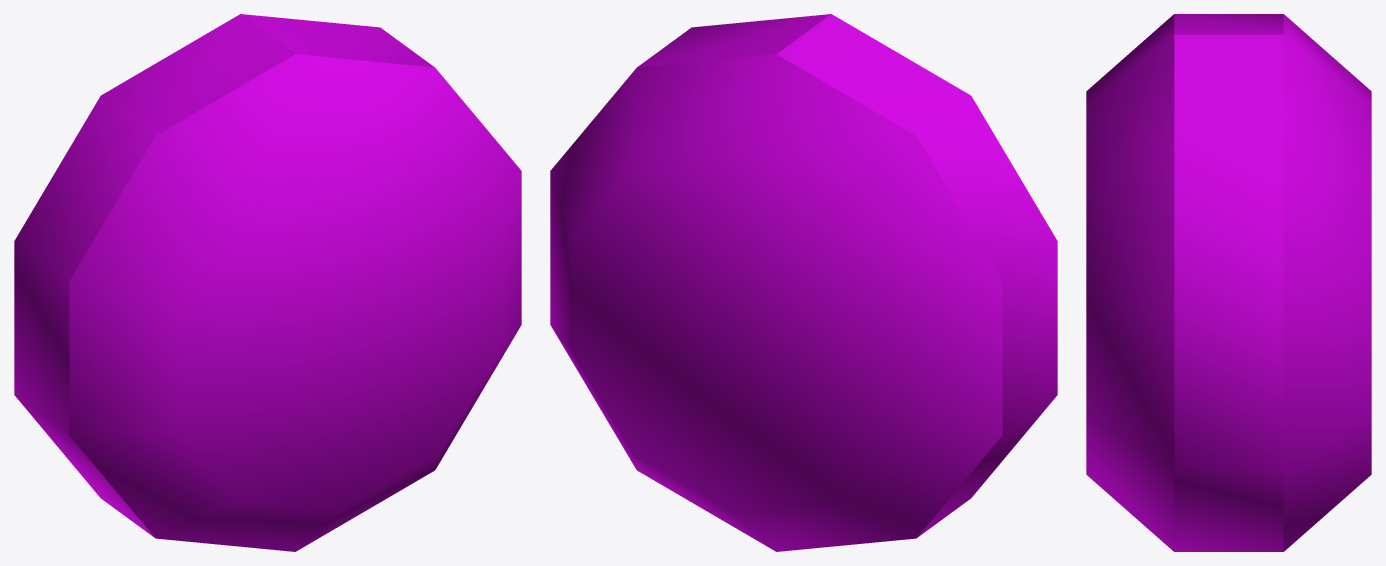
The model's file is CircleGem.gltf.
3 renders of one model, left to right at view 1: azimuth 30°, elevation 25°; view 2: azimuth 150°, elevation 25°; view 3: azimuth 270°, elevation 25°, orthographic.
Parts seen in each view (by area): view 1: CircleGEM; view 2: CircleGEM; view 3: CircleGEM.
Boxes of the visible parts, x1,y1,x2,y2 form: CircleGEM: (14,14,521,551); CircleGEM: (550,14,1057,551); CircleGEM: (1086,14,1371,551).
Size of the model in its own units: 73.3 by 77.08 by 40.09.
Materials: 1 (1 with a texture image).
